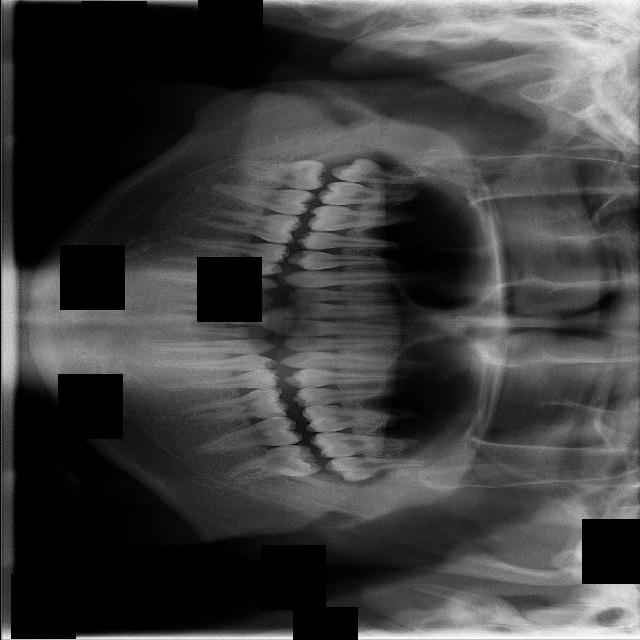3M ESPE Implant: (329, 156, 426, 187)
73: (15, 626, 20, 634)
BioHorizons Implant: (308, 431, 420, 460)
BioLife Implant: (323, 456, 433, 484)
Biomet 3i Implant: (220, 440, 323, 487)
Blue Sky Bio Implant: (192, 414, 303, 455)
Caries: (314, 177, 422, 207)
Implant: (210, 184, 318, 217)
Keystone Dental Implant: (234, 157, 329, 191)
